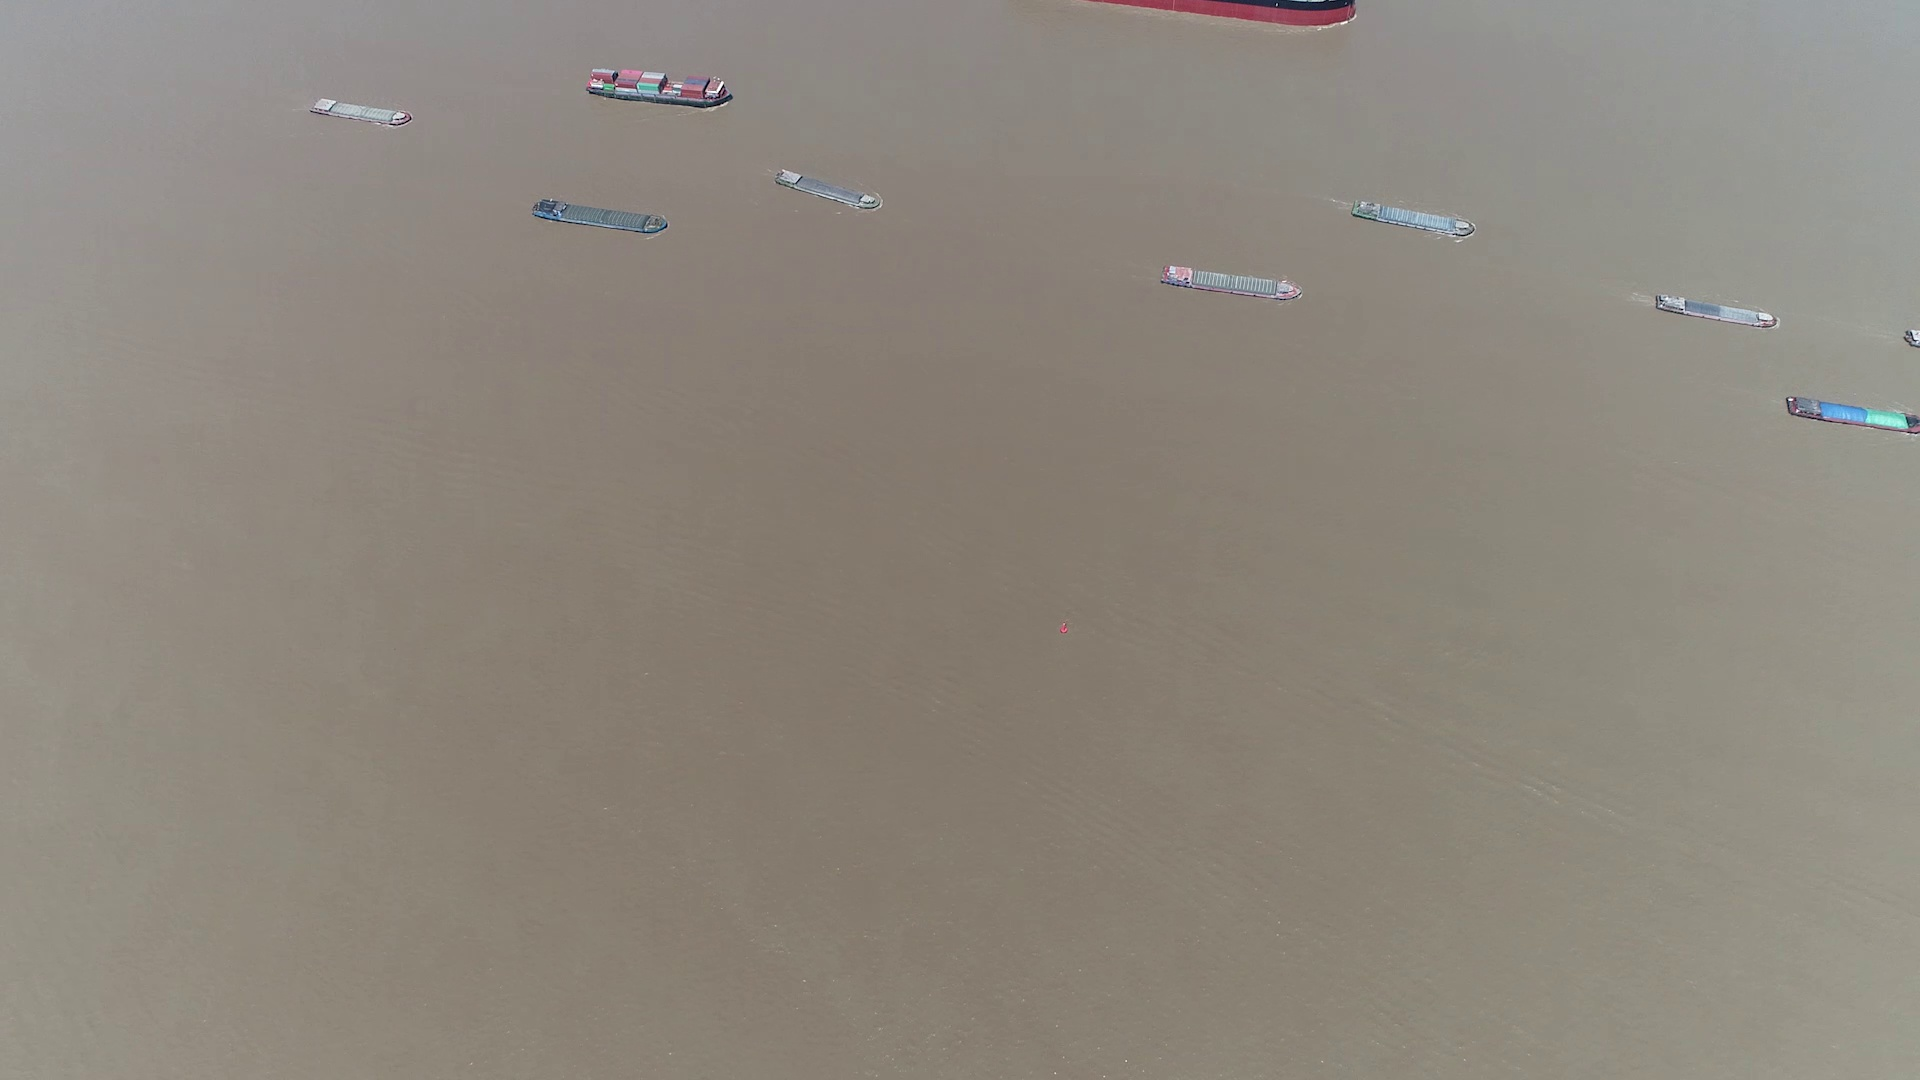ship: (585, 65, 733, 107), (1783, 394, 1920, 434), (1160, 264, 1299, 302), (530, 198, 665, 235), (775, 169, 884, 214), (1352, 199, 1472, 239), (1654, 291, 1778, 328), (309, 98, 410, 127)
